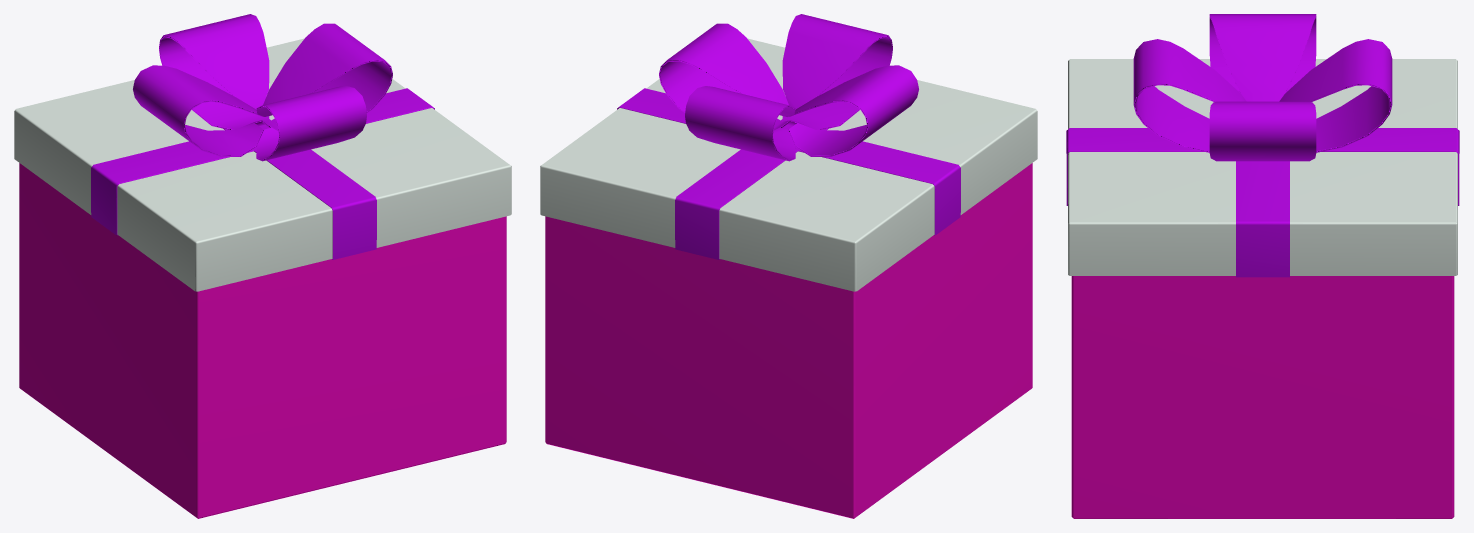
The model's file is gift_violet.glb.
3 renders of one model, left to right at view 1: azimuth 30°, elevation 25°; view 2: azimuth 150°, elevation 25°; view 3: azimuth 270°, elevation 25°, orthographic. The views are drawn at different scales.
Parts seen in each view (by area): view 1: SK_GiftBox.008, SK_GiftBox.007, SK_GiftBox.006; view 2: SK_GiftBox.008, SK_GiftBox.007, SK_GiftBox.006; view 3: SK_GiftBox.008, SK_GiftBox.007, SK_GiftBox.006.
Part boxes in pixels (x1,y1,x2,y2): SK_GiftBox.008: (19, 163, 506, 518); SK_GiftBox.007: (14, 38, 511, 291); SK_GiftBox.006: (91, 14, 434, 259); SK_GiftBox.008: (545, 163, 1032, 518); SK_GiftBox.007: (540, 38, 1037, 291); SK_GiftBox.006: (617, 14, 960, 259); SK_GiftBox.008: (1071, 276, 1454, 518); SK_GiftBox.007: (1068, 59, 1457, 275); SK_GiftBox.006: (1066, 14, 1459, 277).
Bounding box in the file's own units: 1.88 × 2 × 1.88.
